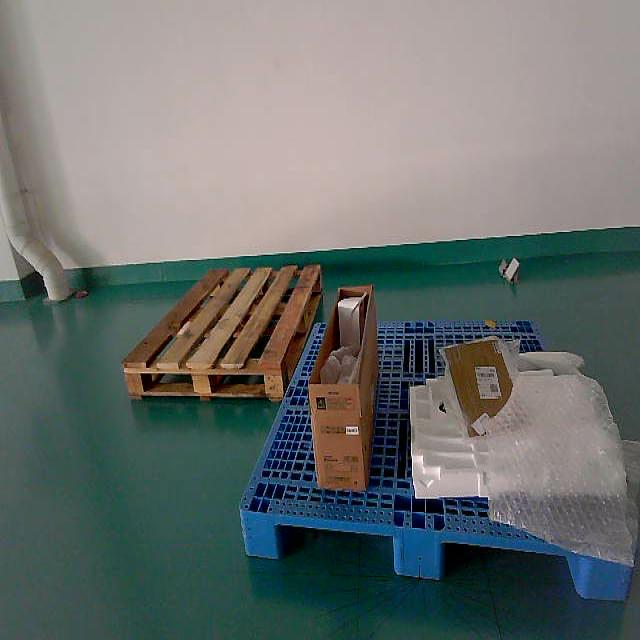euro: (122, 264, 326, 403)
